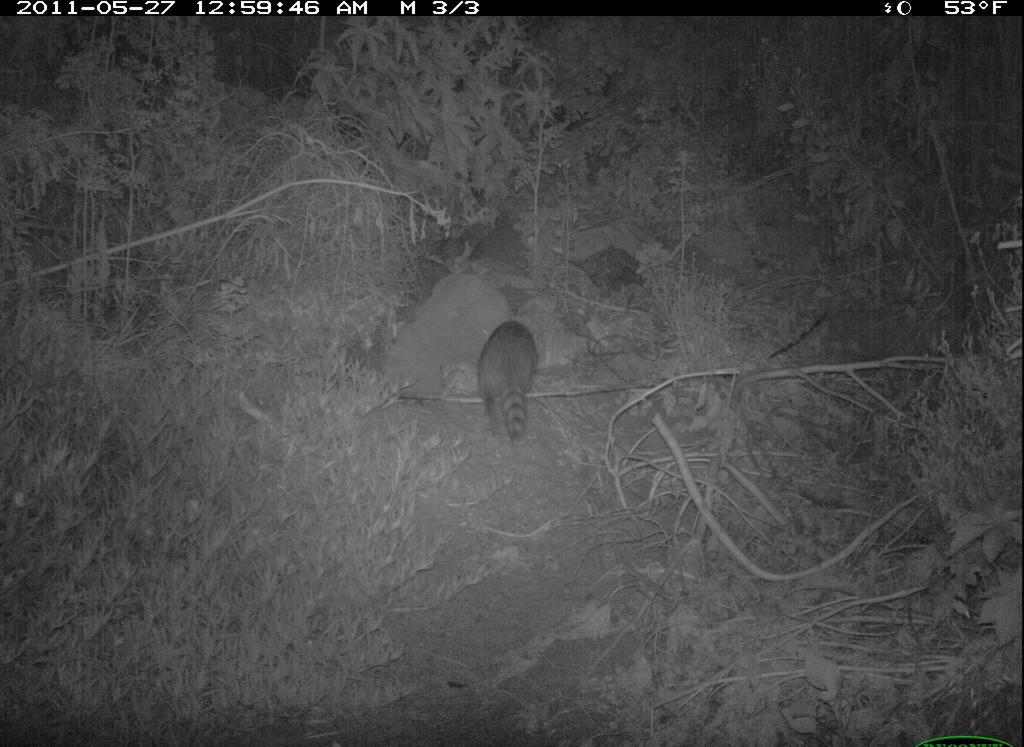raccoon: (470, 309, 548, 447)
